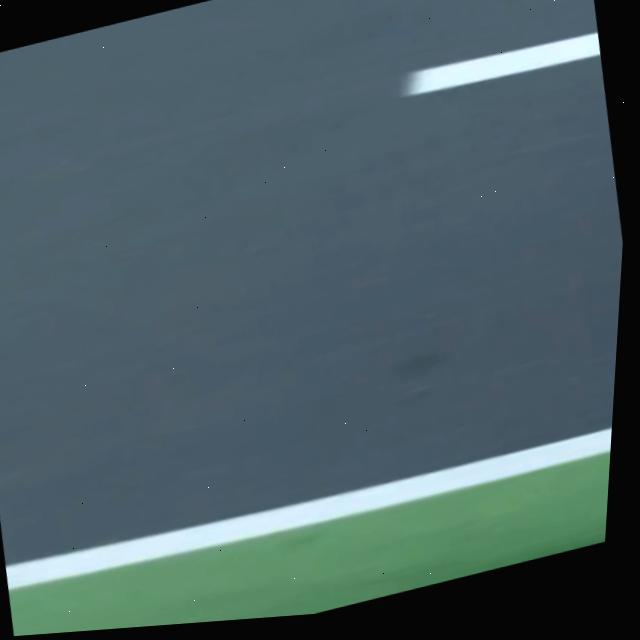center: (403, 30, 600, 93)
right: (5, 426, 612, 588)
